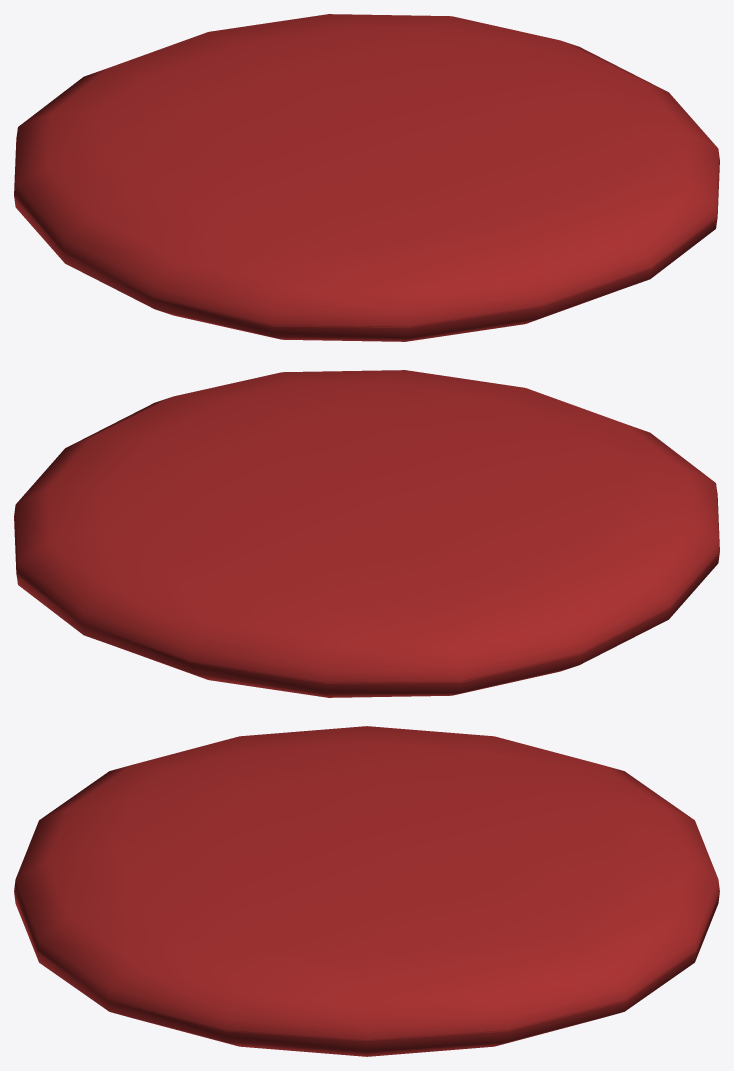
The model's file is RawMeat.fbx.
The picture shows the model from 3 angles, top to bottom: view 1: azimuth 30°, elevation 25°; view 2: azimuth 150°, elevation 25°; view 3: azimuth 270°, elevation 25°; orthographic projection.
Parts seen in each view (by area): view 1: Meat; view 2: Meat; view 3: Meat.
Part boxes in pixels (box(x1,y1,x2,y2)): Meat: box(14, 14, 719, 341); Meat: box(14, 370, 719, 697); Meat: box(14, 726, 719, 1056).
Size of the model in its own units: 108 by 17.71 by 108.
